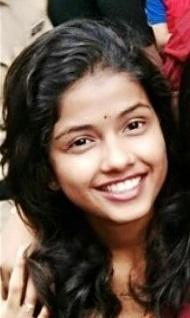No Mask: (20, 37, 180, 239)
